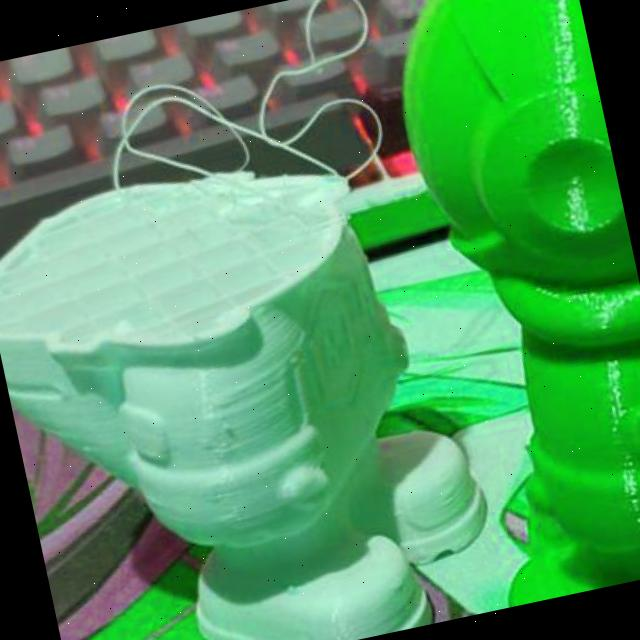spaghetti: (79, 0, 400, 233)
